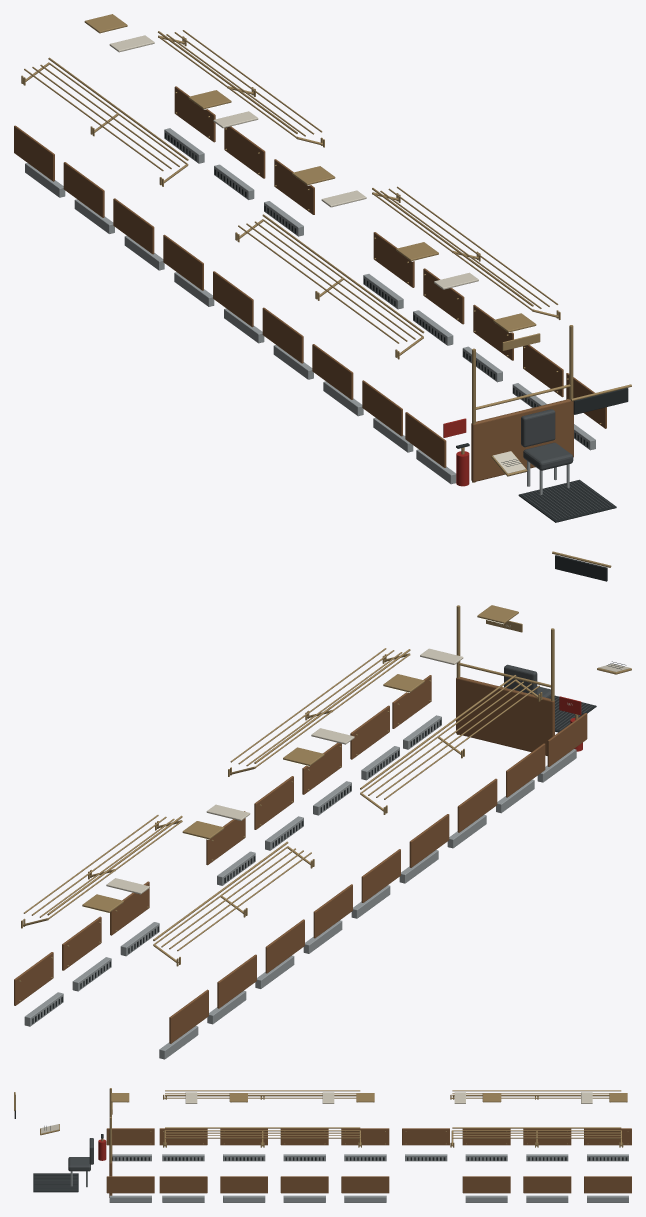
File: details.glb
3 renders of one model, top to bottom at view 1: azimuth 30°, elevation 25°; view 2: azimuth 150°, elevation 25°; view 3: azimuth 270°, elevation 25°, orthographic. The views are drawn at different scales.
Parts seen in each view (by area): view 1: Interior Varnished oak interior, Interior Aged brass fittings, Interior Brushed stainless fasteners, Interior Moulded dark rubber, Interior Driver seat upholstery, Interior Warm painted ceiling, Interior Extinguisher enamel; view 2: Interior Varnished oak interior, Interior Aged brass fittings, Interior Brushed stainless fasteners, Interior Moulded dark rubber, Interior Warm painted ceiling, Interior Driver seat upholstery; view 3: Interior Varnished oak interior, Interior Aged brass fittings, Interior Brushed stainless fasteners, Interior Moulded dark rubber, Interior Driver seat upholstery, Interior Warm painted ceiling, Interior Extinguisher enamel.
Boxes of the visible parts, bbox=[...] form: Interior Varnished oak interior: bbox=[14, 86, 606, 482]; Interior Aged brass fittings: bbox=[21, 14, 631, 482]; Interior Brushed stainless fasteners: bbox=[25, 128, 595, 494]; Interior Moulded dark rubber: bbox=[165, 132, 628, 522]; Interior Driver seat upholstery: bbox=[521, 409, 613, 520]; Interior Warm painted ceiling: bbox=[109, 35, 525, 473]; Interior Extinguisher enamel: bbox=[443, 418, 469, 486]; Interior Varnished oak interior: bbox=[14, 675, 587, 1043]; Interior Aged brass fittings: bbox=[19, 551, 631, 1001]; Interior Brushed stainless fasteners: bbox=[24, 715, 576, 1059]; Interior Moulded dark rubber: bbox=[32, 555, 626, 1023]; Interior Warm painted ceiling: bbox=[106, 648, 630, 894]; Interior Driver seat upholstery: bbox=[504, 664, 593, 730]; Interior Varnished oak interior: bbox=[106, 1128, 631, 1197]; Interior Aged brass fittings: bbox=[14, 1088, 628, 1162]; Interior Brushed stainless fasteners: bbox=[70, 1154, 628, 1202]; Interior Moulded dark rubber: bbox=[14, 1095, 627, 1192]; Interior Driver seat upholstery: bbox=[34, 1138, 93, 1190]; Interior Warm painted ceiling: bbox=[41, 1092, 592, 1133]; Interior Extinguisher enamel: bbox=[98, 1139, 106, 1160].
Size of the model in its own units: 2.17 by 1.82 by 11.72.
